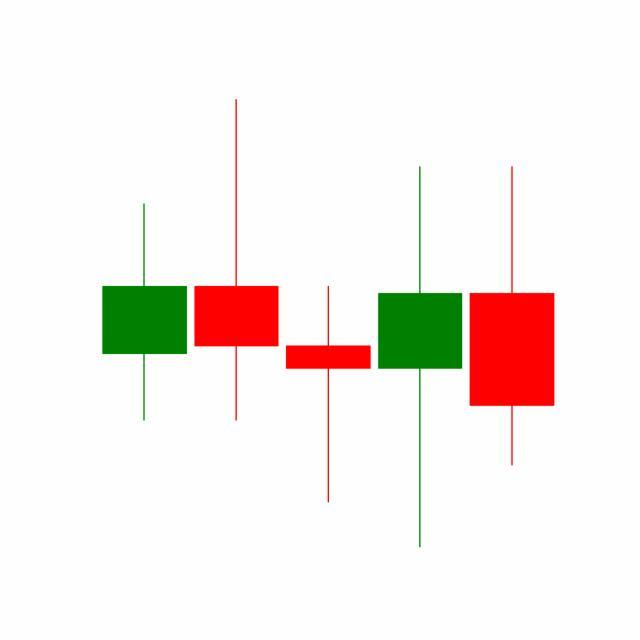Spinning Top: (374, 162, 468, 552)
